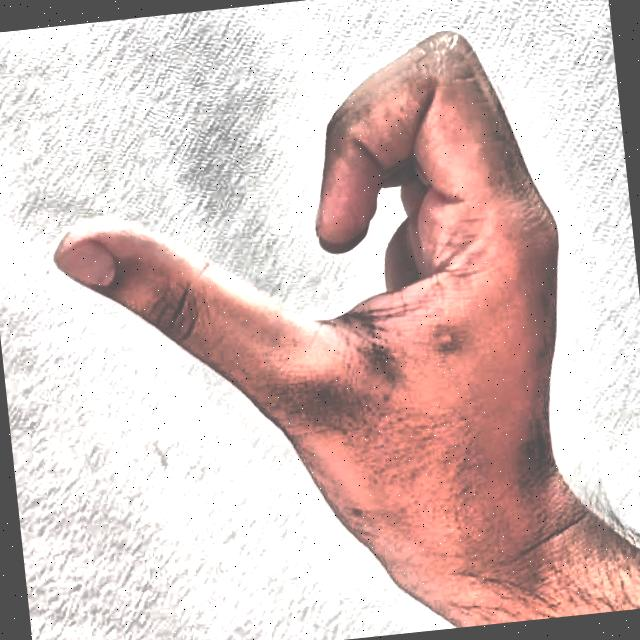Kha: (0, 0, 622, 640)
